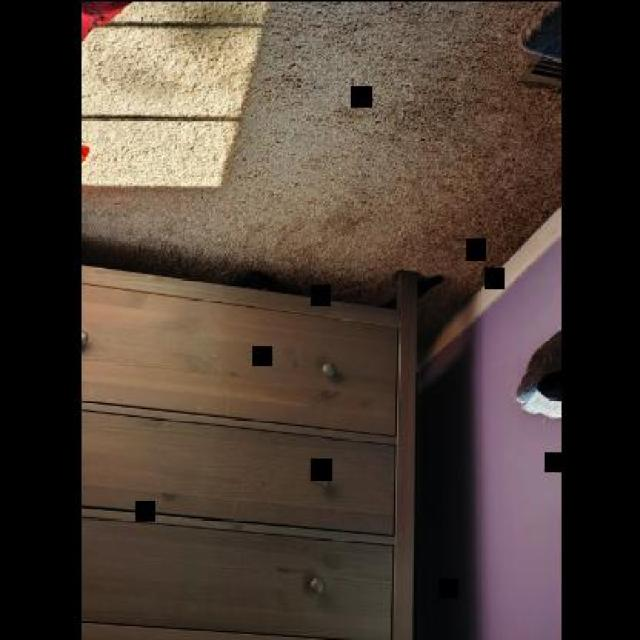unauthorized: (514, 328, 561, 418)
